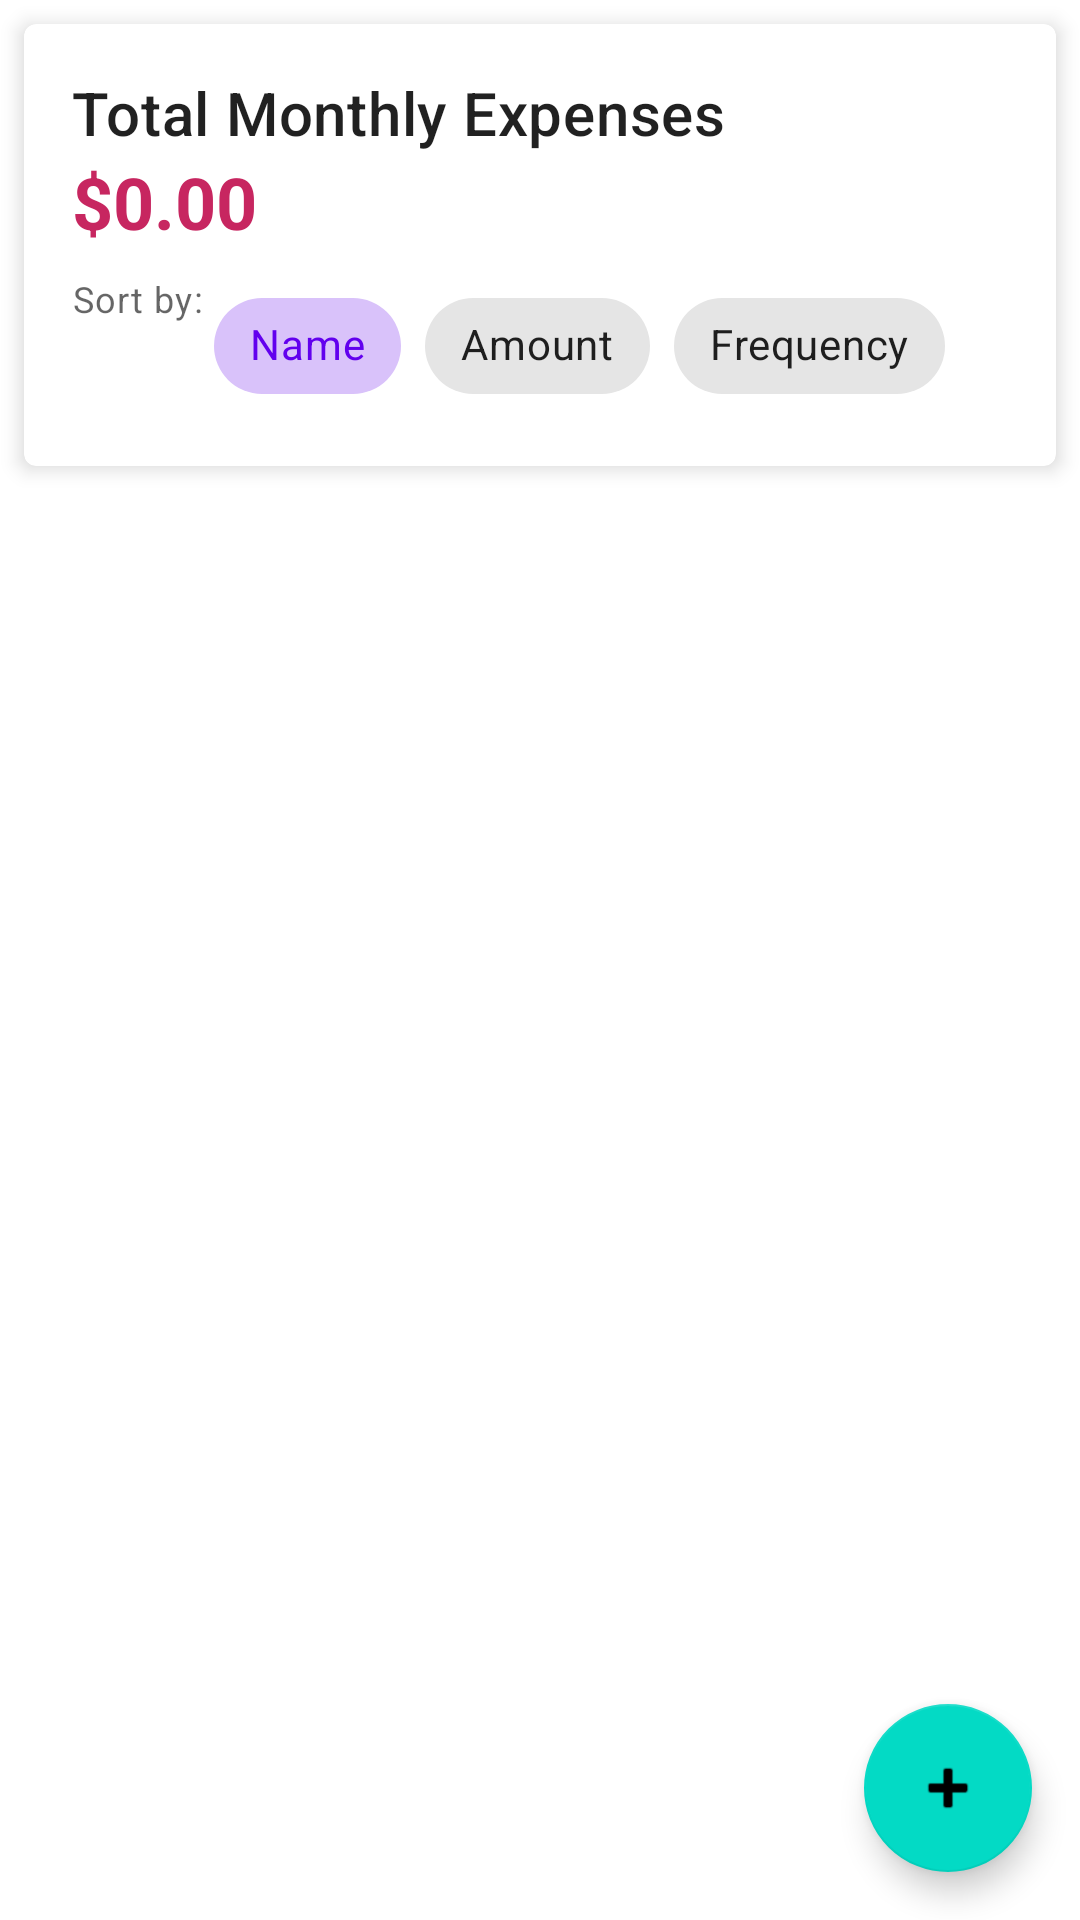

Icon click points for this 1080w x 1920h phone screenshot, format [x,y]:
Add new expense: [948,1788]
